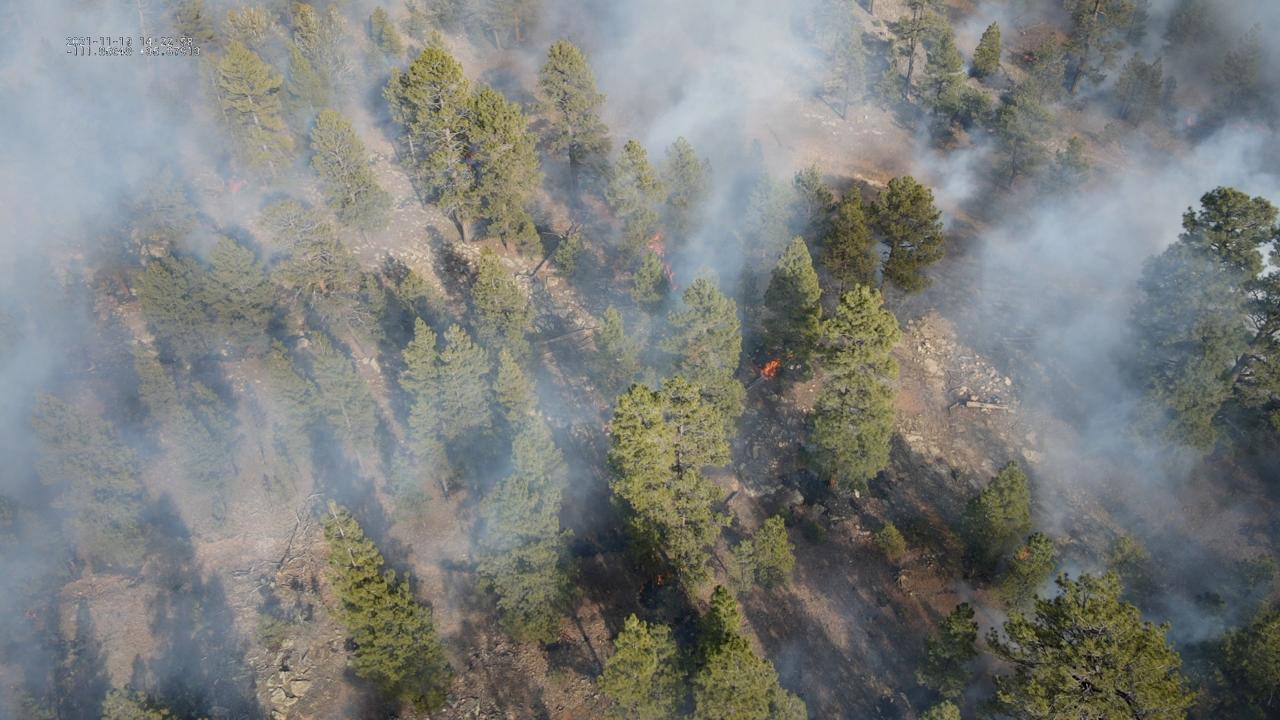fire: (661, 261, 682, 291), (760, 358, 781, 385), (647, 230, 667, 258), (19, 603, 42, 626), (227, 181, 243, 197), (1182, 117, 1195, 129), (1013, 550, 1027, 561)
smoke: (0, 0, 1280, 720)
